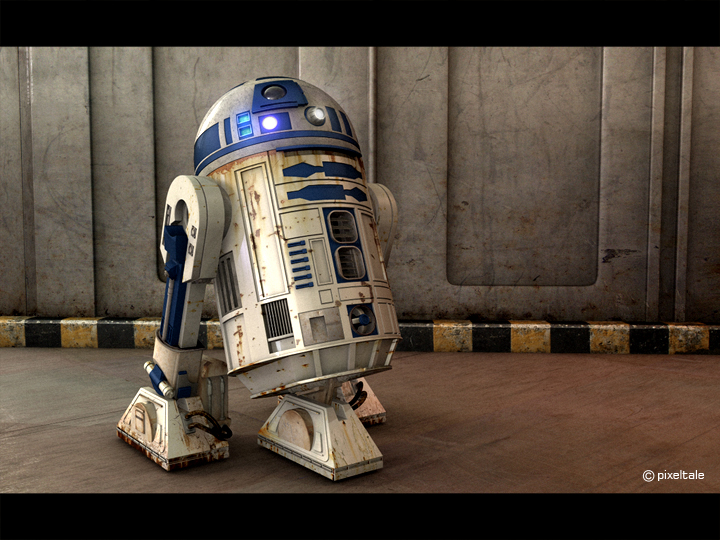r2d2: (117, 75, 399, 483)
